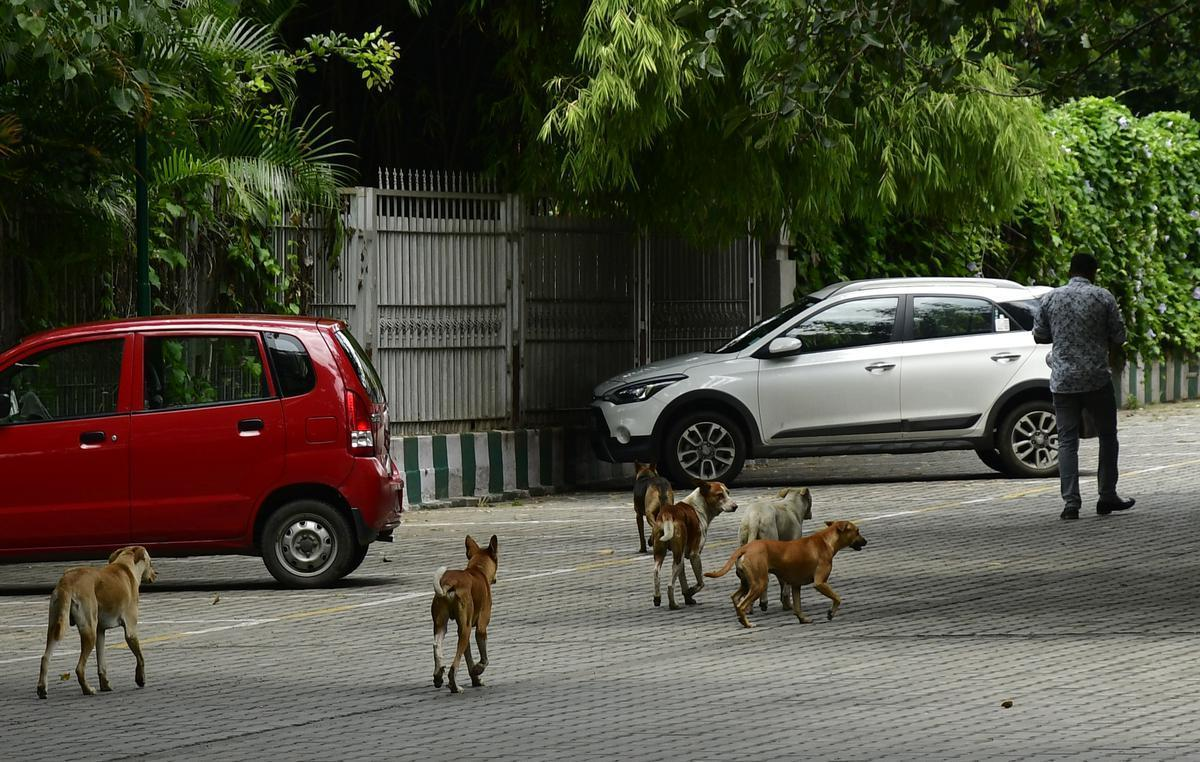normal_dogs: (29, 546, 159, 704), (701, 516, 869, 634), (418, 527, 509, 700), (644, 481, 737, 609), (734, 480, 813, 559), (623, 454, 680, 556)
